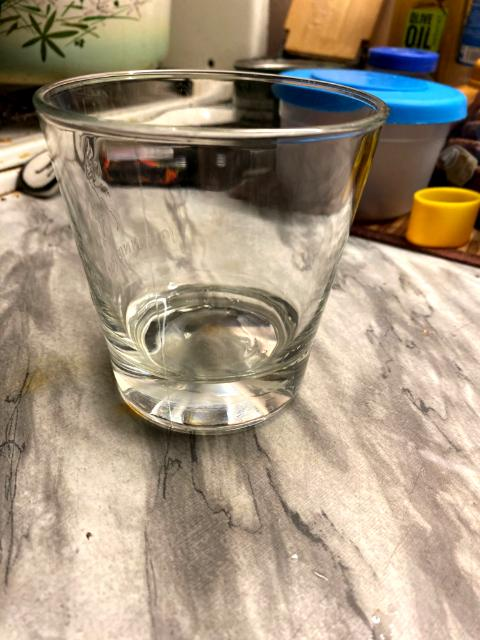Cup: (34, 72, 388, 432)
